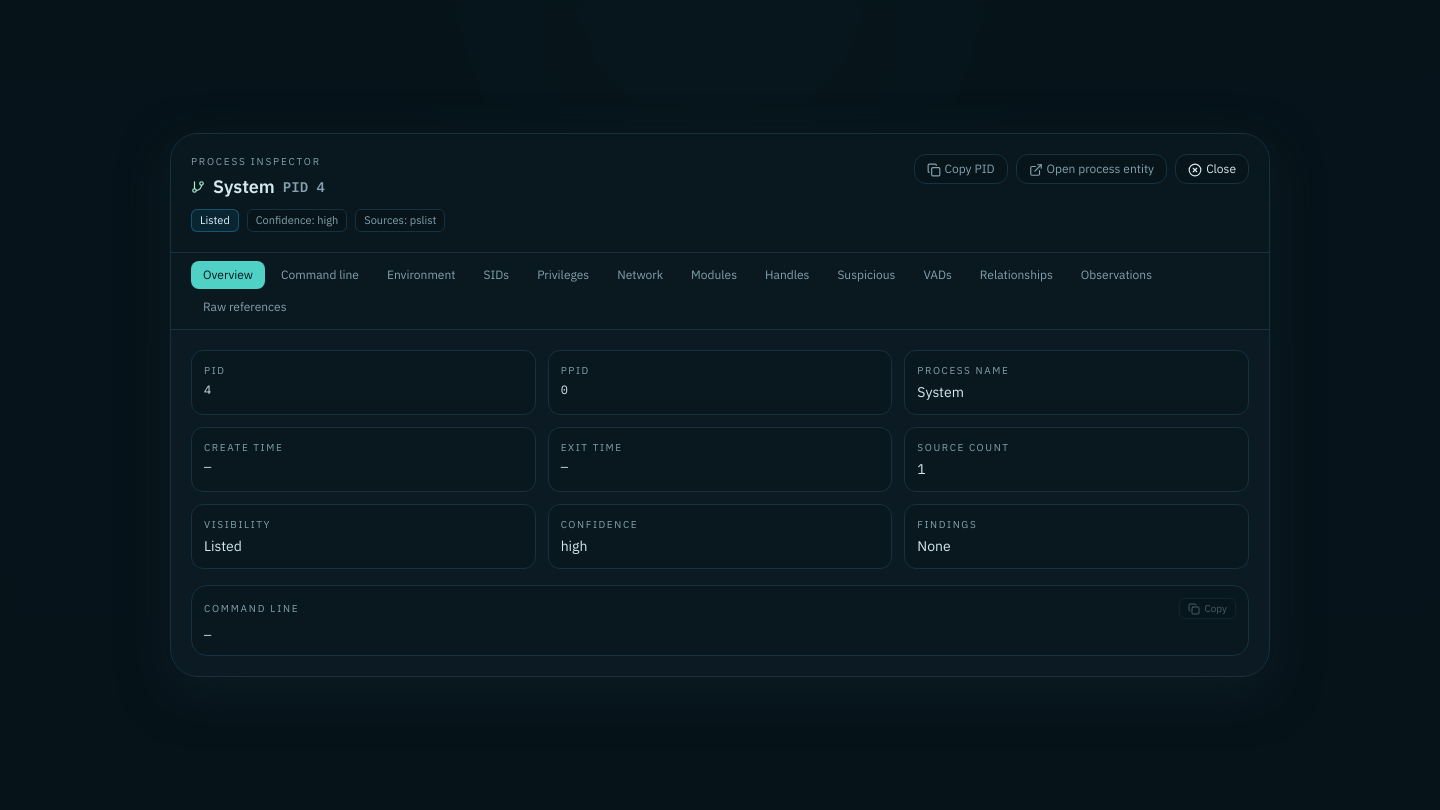
Test: ProcessDetailModal › tabs › switches to command_line tab on click
Expected: the dialog with test id "process-detail-modal" is shown, [170,133,1270,677]
Click the tab with test id "process-detail-modal-tab-command_line" at (320, 275), box [269,261,371,289]
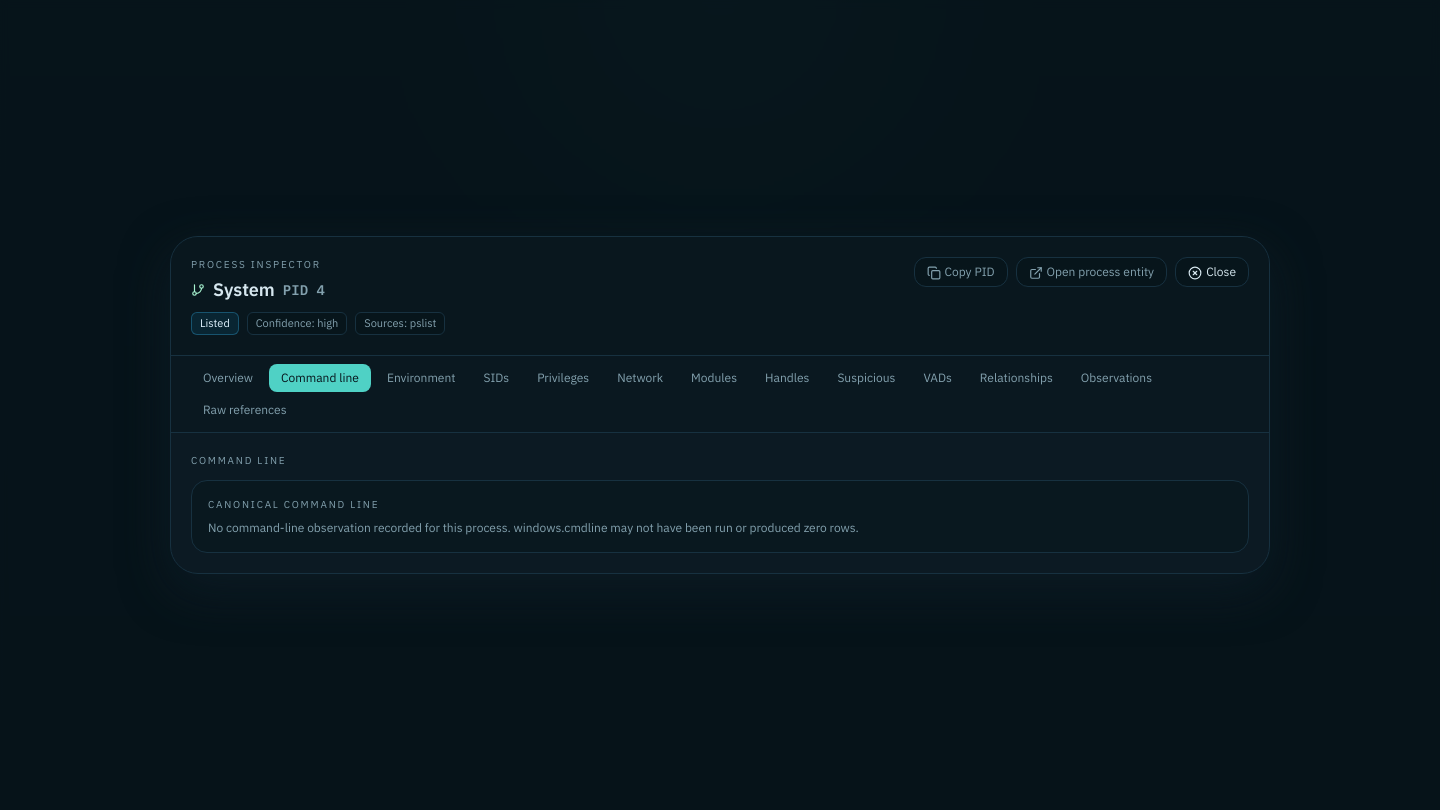
Result: the panel with test id "process-detail-modal-tabpanel-command-line" is shown at [191,453,1249,553]
